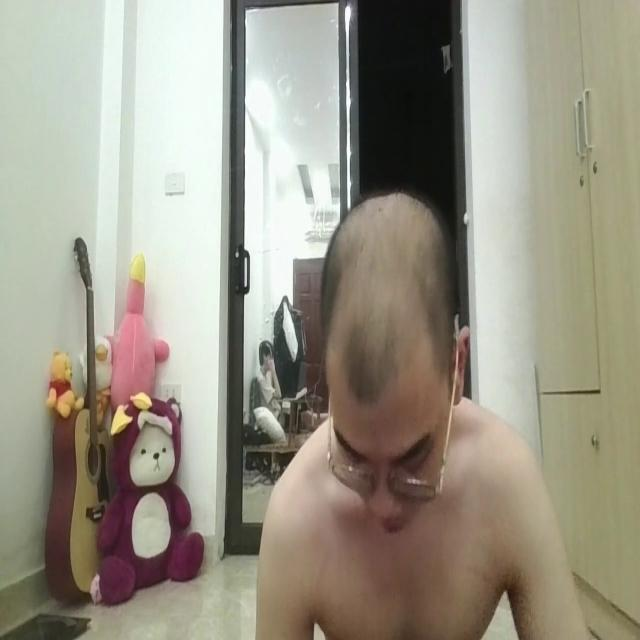extra_person: (238, 300, 316, 434)
student: (248, 182, 594, 640)
